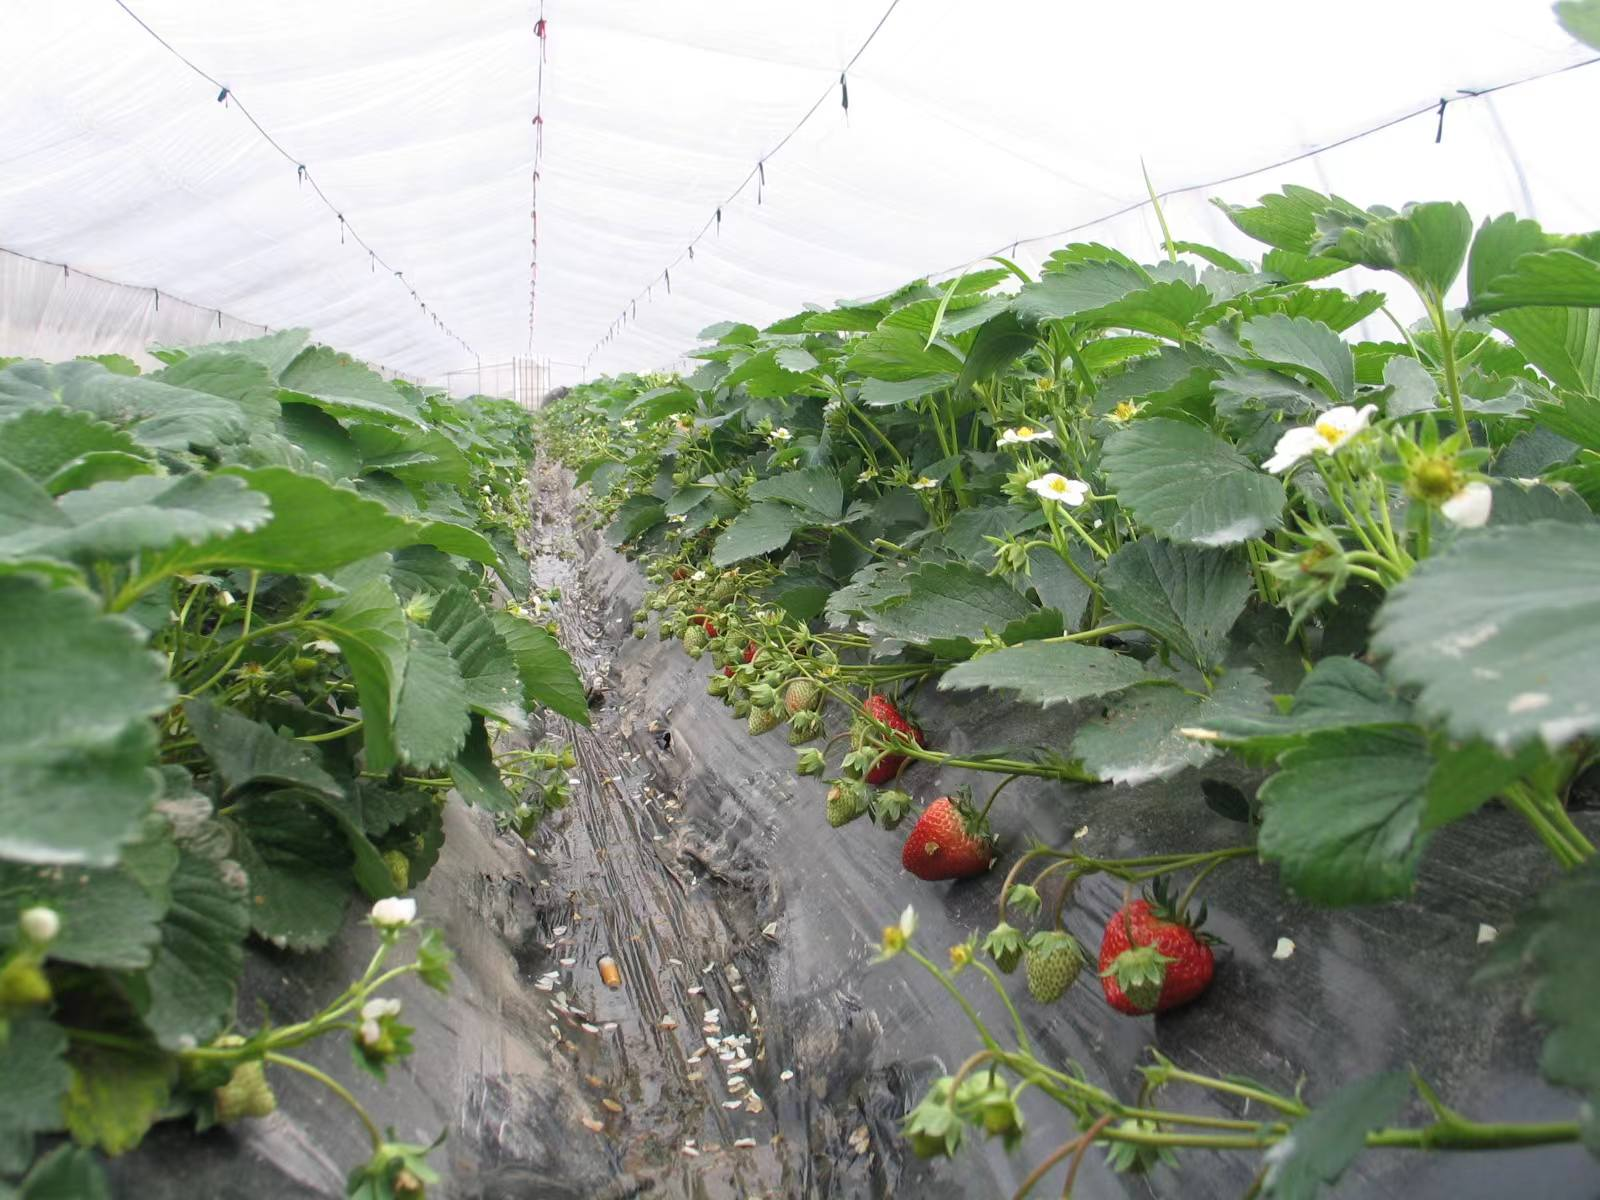StrawberryCone: (1086, 882, 1236, 1036), (900, 792, 1008, 892), (838, 689, 942, 782)
StrawberryIrremovable: (195, 1037, 283, 1128), (1026, 928, 1083, 1008), (903, 1100, 971, 1160), (816, 780, 888, 834), (1112, 952, 1172, 1008), (976, 916, 1031, 978), (976, 1100, 1031, 1145), (741, 689, 787, 736), (784, 676, 823, 718), (683, 620, 713, 655)
StrawberryRemovable: (1092, 886, 1228, 1032), (905, 798, 1008, 886), (844, 692, 934, 778)
